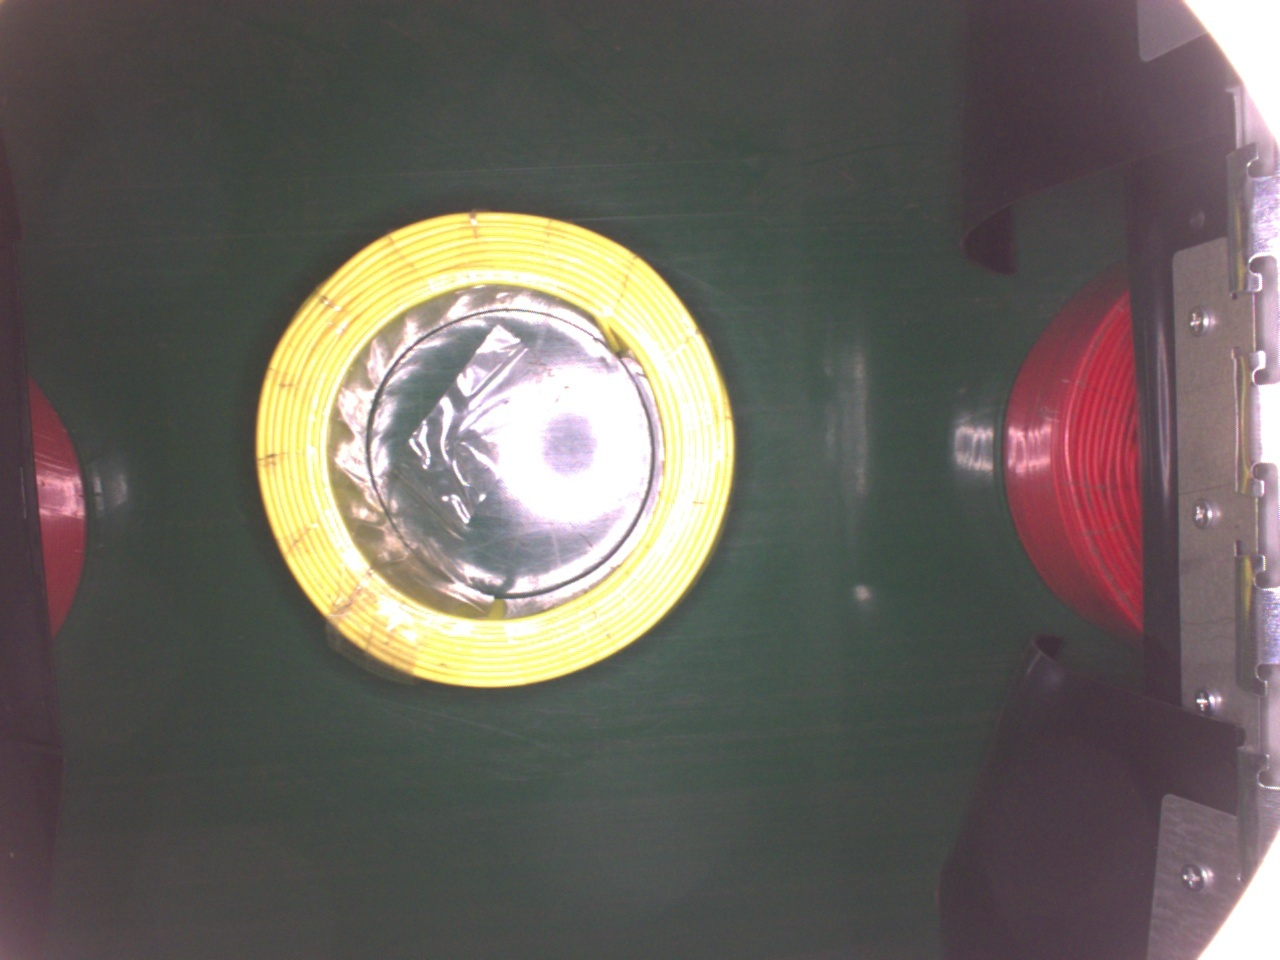red: (1003, 254, 1142, 649)
yellow: (254, 205, 745, 696)
